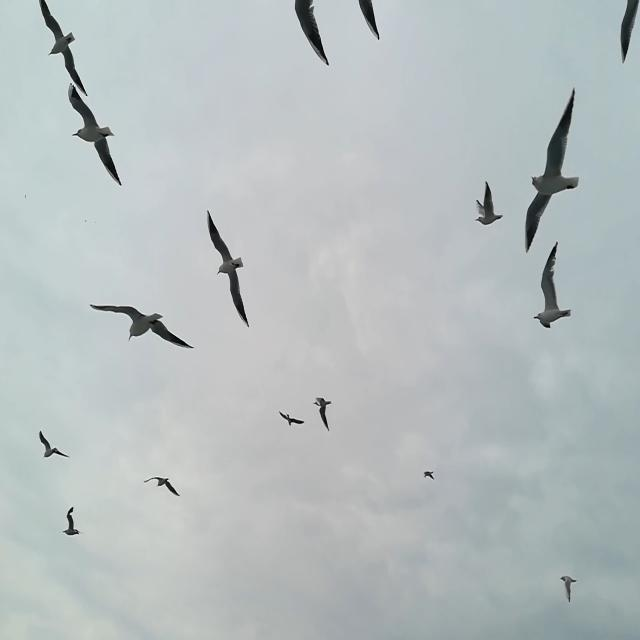bird: (524, 88, 580, 253), (68, 83, 122, 187), (207, 210, 249, 330), (38, 0, 88, 97), (89, 303, 194, 349), (533, 242, 574, 332), (294, 0, 332, 68), (474, 180, 504, 227), (620, 0, 639, 66), (38, 430, 71, 460), (357, 0, 381, 41), (142, 476, 183, 497), (312, 395, 332, 430), (62, 507, 85, 536), (559, 574, 577, 604), (279, 411, 306, 426), (423, 469, 434, 482), (24, 194, 27, 200), (84, 219, 87, 223), (94, 220, 97, 223)
